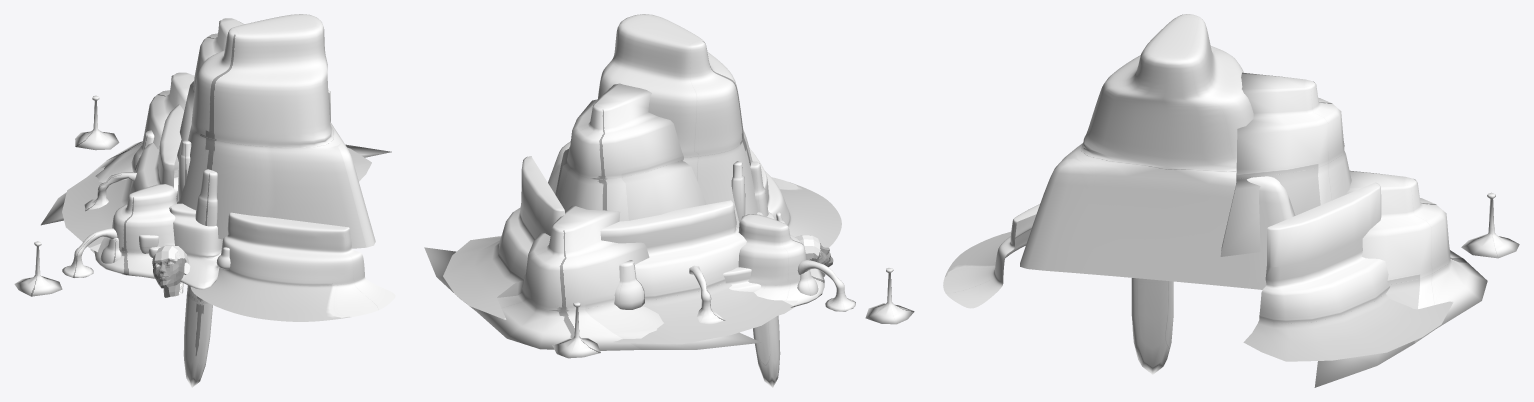
File: lvl01_rock_01.glb
3 views of the same model, side by side, from view 1: azimuth 30°, elevation 25°; view 2: azimuth 150°, elevation 25°; view 3: azimuth 270°, elevation 25° (orthographic). The views are drawn at different scales.
Visible parts, largest first — view 1: Cube.041, Cube.042, Cube.032, Cube.016, Cube.034, Cube.043, Cube.020, Cube.027, Cube.040, Cube.022, Cube.036, Cube.021 (+4 smaller); view 2: Cube.034, Cube.041, Cube.032, Cube.040, Cube.033, Cube.016, Cube.042, Cube.043, Cube.039, Cube.036, Cube.022, Cube.021 (+4 smaller); view 3: Cube.041, Cube.033, Cube.040, Cube.034, Cube.042, Cube.043, Cube.036.
Boxes of the visible parts, x1=… form: Cube.041: x1=176, y1=14, x2=375, y2=248; Cube.042: x1=190, y1=212, x2=395, y2=321; Cube.032: x1=62, y1=104, x2=184, y2=252; Cube.016: x1=94, y1=184, x2=181, y2=282; Cube.034: x1=41, y1=72, x2=391, y2=225; Cube.043: x1=183, y1=169, x2=217, y2=387; Cube.020: x1=169, y1=203, x2=222, y2=289; Cube.027: x1=152, y1=245, x2=190, y2=297; Cube.040: x1=177, y1=18, x2=243, y2=162; Cube.022: x1=14, y1=241, x2=62, y2=296; Cube.036: x1=75, y1=95, x2=119, y2=150; Cube.021: x1=62, y1=228, x2=117, y2=277; Cube.034: x1=424, y1=206, x2=761, y2=350; Cube.041: x1=548, y1=14, x2=757, y2=228; Cube.032: x1=600, y1=200, x2=797, y2=344; Cube.040: x1=555, y1=83, x2=706, y2=221; Cube.033: x1=443, y1=156, x2=564, y2=319; Cube.016: x1=738, y1=214, x2=824, y2=307; Cube.042: x1=749, y1=148, x2=841, y2=247; Cube.043: x1=750, y1=161, x2=780, y2=387; Cube.039: x1=614, y1=260, x2=644, y2=309; Cube.036: x1=552, y1=302, x2=600, y2=358; Cube.022: x1=865, y1=268, x2=914, y2=324; Cube.021: x1=797, y1=260, x2=855, y2=311; Cube.041: x1=1020, y1=14, x2=1295, y2=289; Cube.033: x1=1243, y1=182, x2=1453, y2=361; Cube.040: x1=1220, y1=72, x2=1351, y2=256; Cube.034: x1=1314, y1=170, x2=1487, y2=387; Cube.042: x1=943, y1=204, x2=1039, y2=308; Cube.043: x1=1131, y1=278, x2=1173, y2=374; Cube.036: x1=1461, y1=192, x2=1519, y2=258.
Bounding box in the file's own units: 292 × 219 × 292.
6 materials, 6 textured.
